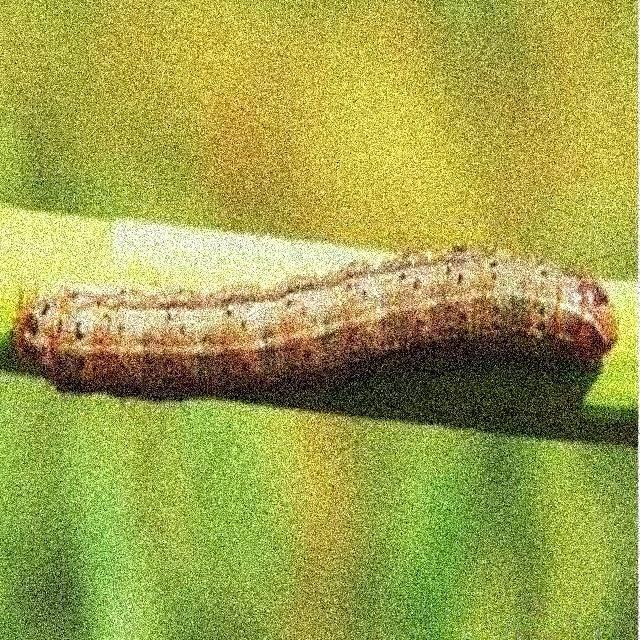gusano_cogollero: (11, 239, 618, 403)
